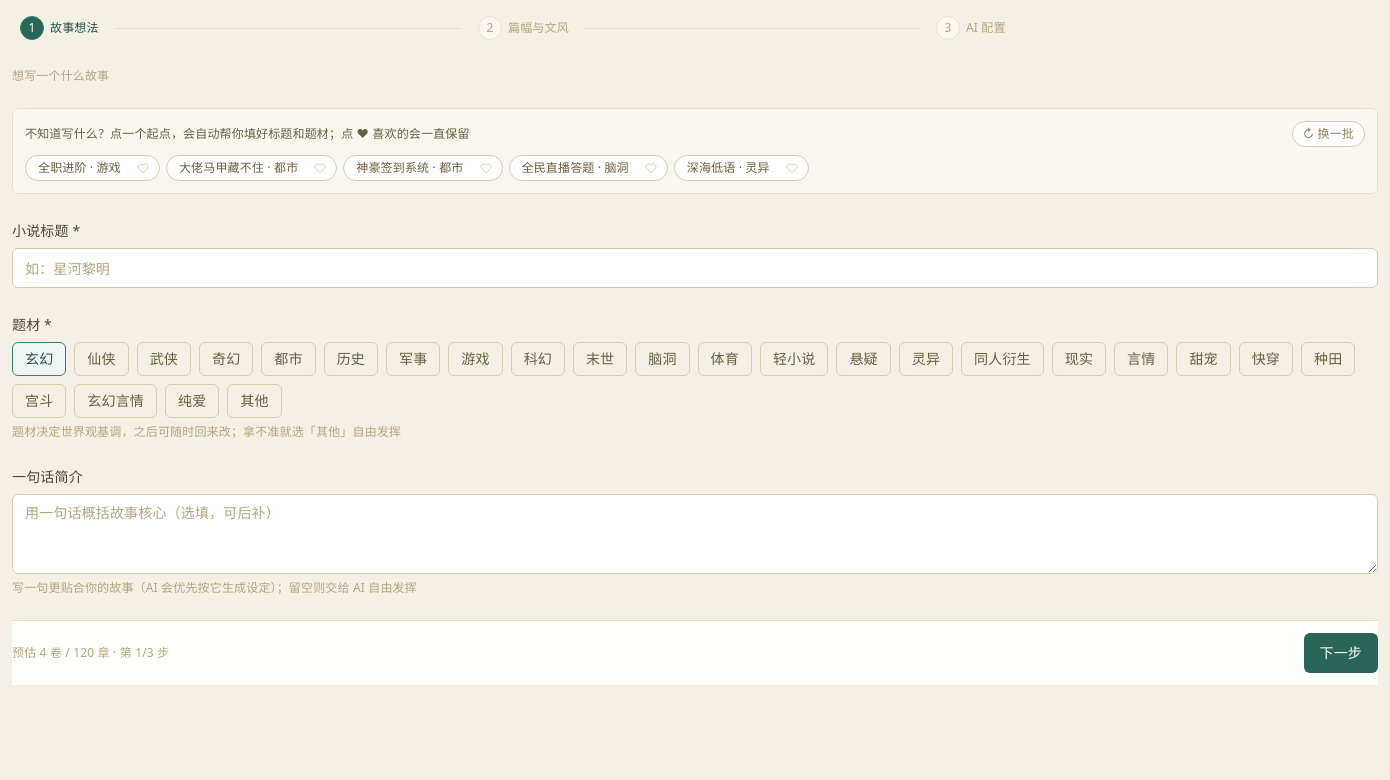
Test: ProjectForm（三步向导） › 标题为空点下一步：拦截在本步并展示校验错误
This screenshot has width=1390, height=780.
Expected: the text "不知道写什么？点一个起点，会自动帮你填好标题和题材；点 ♥ 喜欢的会一直保留" is shown, [25, 126, 470, 142]
Step 1. Click the button "下一步" → (1341, 653), box [1304, 633, 1378, 673]
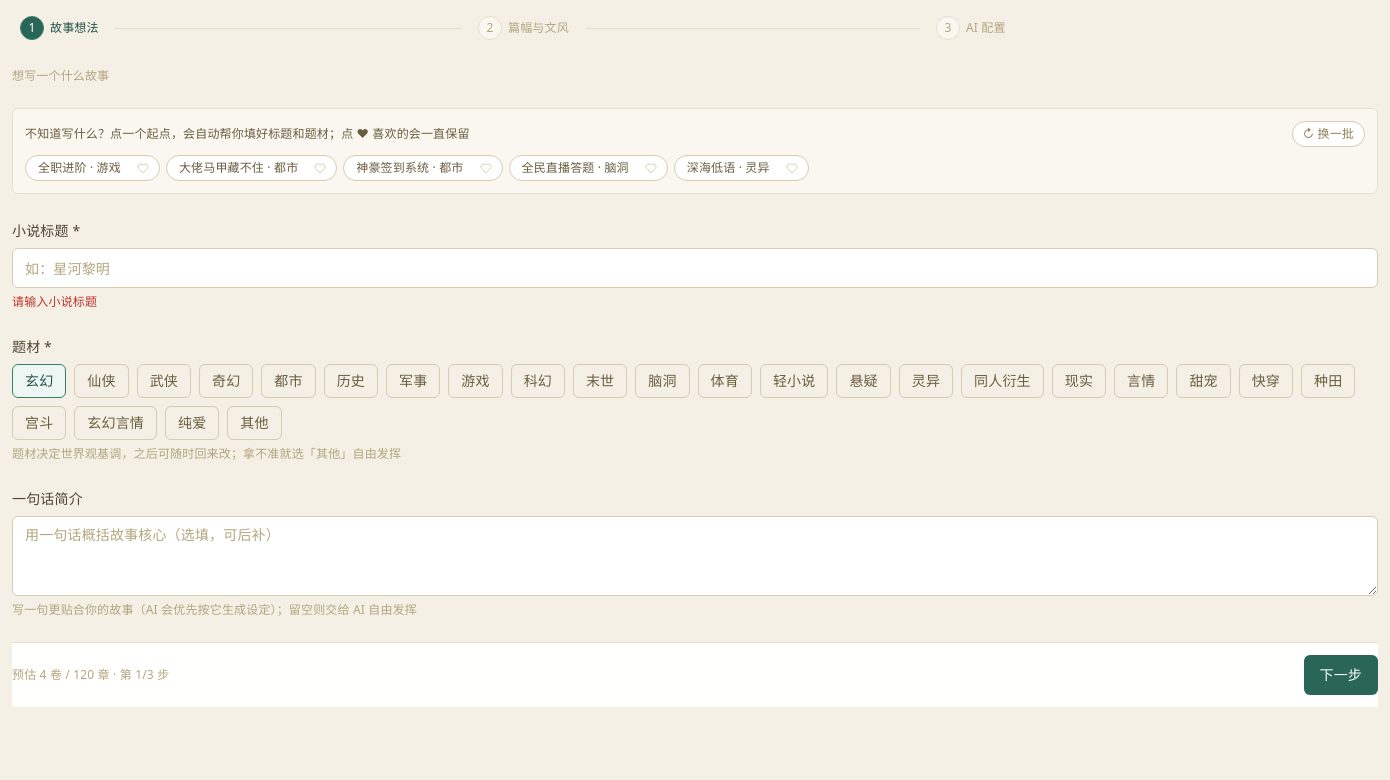
Result: the text "请输入小说标题" is shown at [12, 293, 97, 310]
